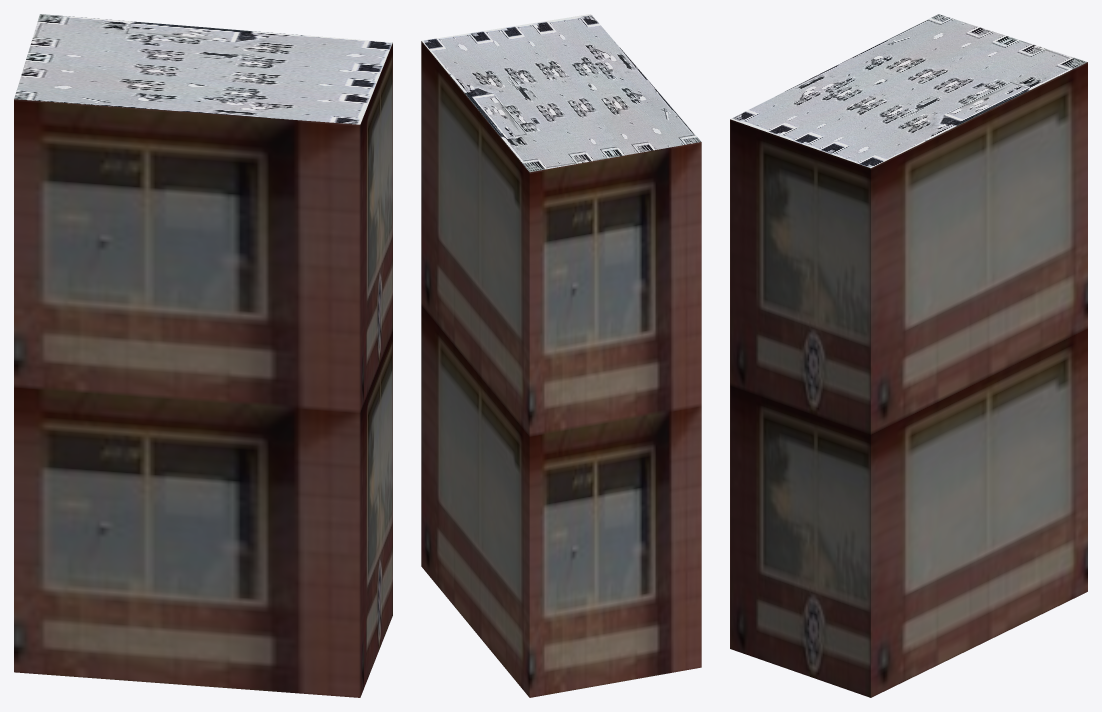
Rendered from ResTex__70.fbx.
3 renders of one model, left to right at view 1: azimuth 30°, elevation 25°; view 2: azimuth 150°, elevation 25°; view 3: azimuth 270°, elevation 25°, orthographic. The views are drawn at different scales.
Visible parts, largest first — view 1: CityEngineMaterial_13_m, CityEngineMaterial_m; view 2: CityEngineMaterial_13_m, CityEngineMaterial_m; view 3: CityEngineMaterial_13_m, CityEngineMaterial_m.
Part boxes in pixels (bbox=[...]): CityEngineMaterial_13_m: bbox=[14, 43, 392, 697]; CityEngineMaterial_m: bbox=[14, 14, 392, 124]; CityEngineMaterial_13_m: bbox=[421, 41, 701, 697]; CityEngineMaterial_m: bbox=[421, 14, 701, 172]; CityEngineMaterial_13_m: bbox=[730, 62, 1087, 697]; CityEngineMaterial_m: bbox=[730, 14, 1087, 168].
Size of the model in its own units: 3.75 by 6 by 3.67.
2 materials, 2 textured.
